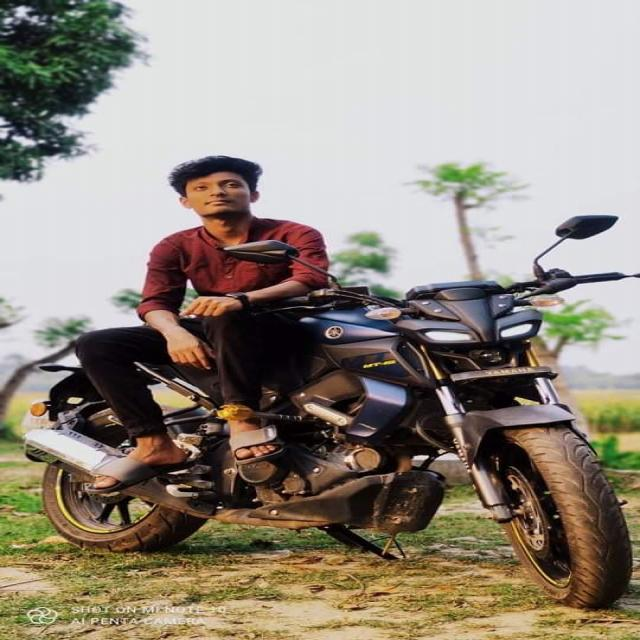Not Wearing Helmet: (86, 160, 323, 330)
